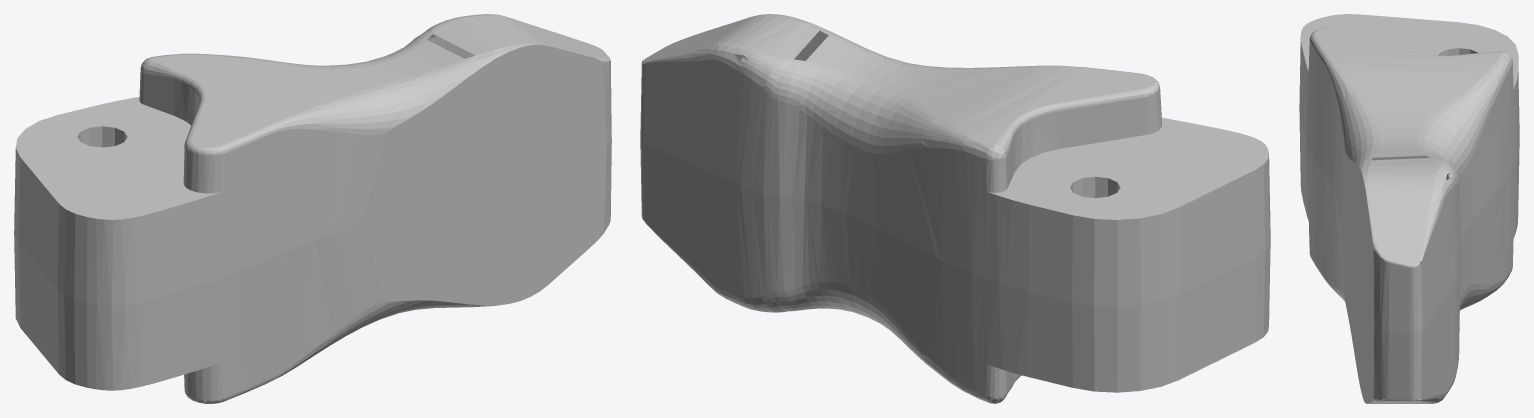
Rendered from jaco_link_finger_tip.dae.
3 renders of one model, left to right at view 1: azimuth 30°, elevation 25°; view 2: azimuth 150°, elevation 25°; view 3: azimuth 270°, elevation 25°, orthographic. The views are drawn at different scales.
Visible parts, largest first — view 1: skp9086 (×2); view 2: skp9086 (×2); view 3: skp9086 (×2).
Boxes of the visible parts, x1=… form: skp9086 (×2): x1=14, y1=14, x2=611, y2=403; skp9086 (×2): x1=640, y1=14, x2=1270, y2=403; skp9086 (×2): x1=1299, y1=14, x2=1519, y2=403.
Size of the model in its own units: 82.38 by 31.1 by 34.88.
1 material, 1 textured.
